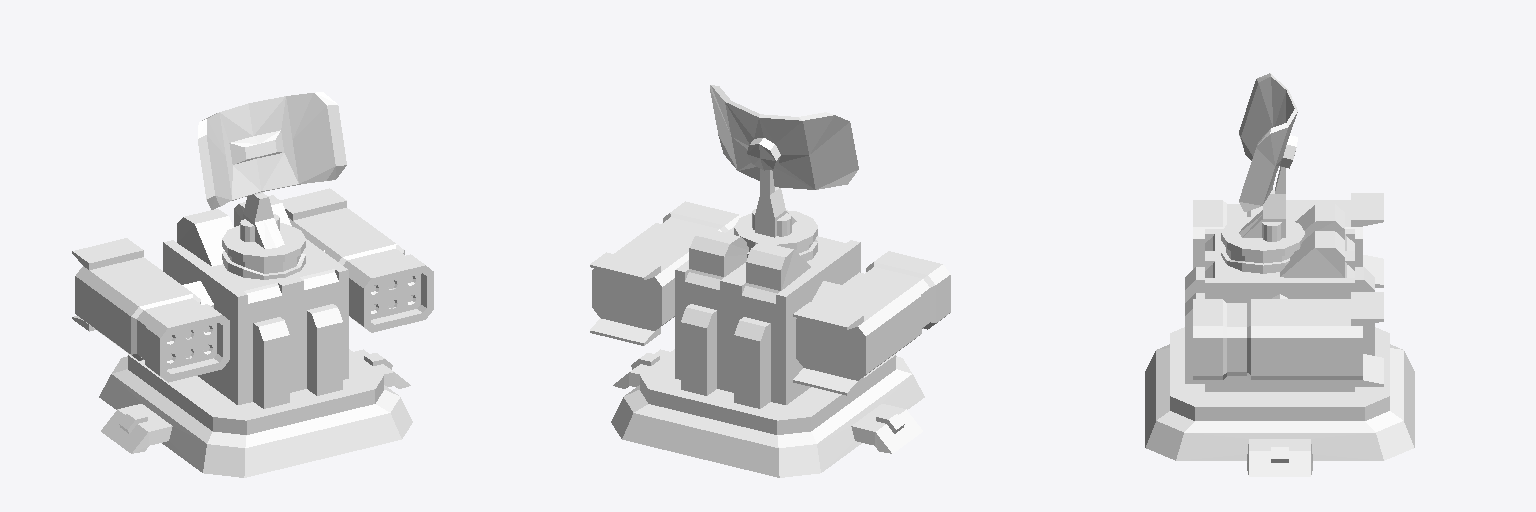
3 renders of one model, left to right at view 1: azimuth 30°, elevation 25°; view 2: azimuth 150°, elevation 25°; view 3: azimuth 270°, elevation 25°, orthographic.
Parts seen in each view (by area): view 1: Object001, Object003, ROKET; view 2: Object001, Object003, ROKET; view 3: Object001, ROKET, Object003.
Boxes of the visible parts, x1=… form: Object001: x1=99, y1=92, x2=412, y2=477; Object003: x1=72, y1=238, x2=229, y2=382; ROKET: x1=280, y1=188, x2=433, y2=332; Object001: x1=611, y1=85, x2=924, y2=477; Object003: x1=793, y1=251, x2=950, y2=395; ROKET: x1=590, y1=201, x2=740, y2=345; Object001: x1=1145, y1=73, x2=1414, y2=476; ROKET: x1=1193, y1=292, x2=1383, y2=386; Object003: x1=1193, y1=193, x2=1383, y2=287.
Size of the model in its own units: 62.07 by 65 by 51.6.